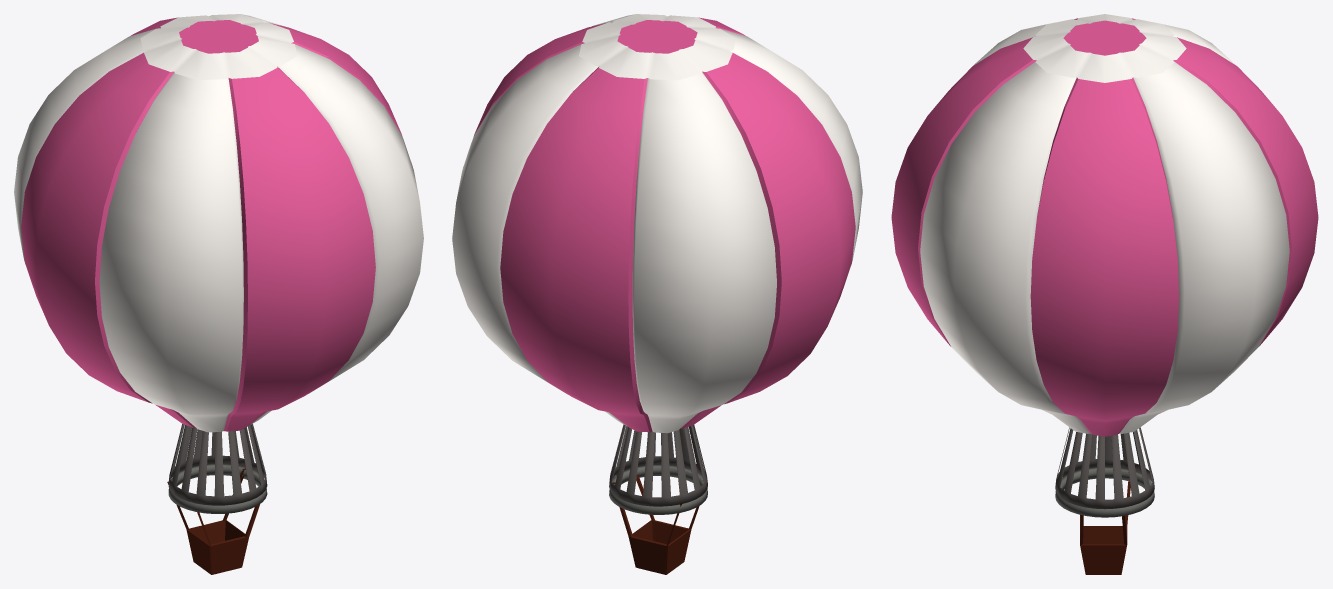
Rendered from hawtair.fbx.
3 renders of one model, left to right at view 1: azimuth 30°, elevation 25°; view 2: azimuth 150°, elevation 25°; view 3: azimuth 270°, elevation 25°, orthographic.
Parts seen in each view (by area): view 1: s.003, Sphere.001, Cube, Sphere; view 2: s.003, Sphere.001, Cube, Sphere; view 3: s.003, Sphere.001, Cube, Sphere.
Boxes of the visible parts, x1,y1,x2,y2 form: s.003: (14, 14, 423, 432); Sphere.001: (168, 424, 267, 505); Cube: (167, 468, 259, 574); Sphere: (168, 464, 267, 513); s.003: (452, 14, 862, 433); Sphere.001: (609, 424, 707, 506); Cube: (613, 475, 699, 574); Sphere: (609, 465, 707, 514); s.003: (891, 14, 1318, 436); Sphere.001: (1055, 427, 1154, 509); Cube: (1080, 481, 1130, 574); Sphere: (1055, 467, 1154, 517).
Size of the model in its own units: 2477 by 3394 by 2477.
